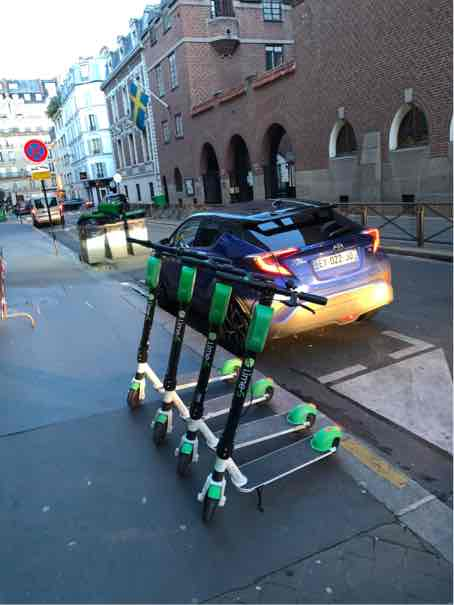too close: (309, 412, 367, 479)
